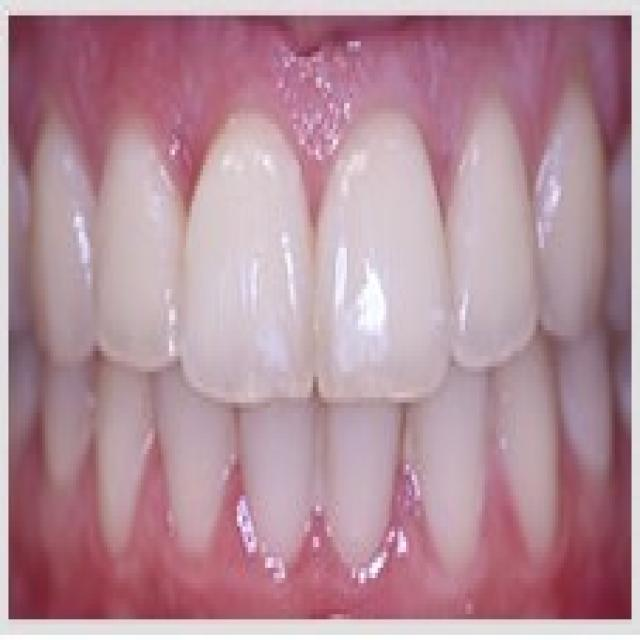tooth: (189, 103, 304, 413), (307, 134, 443, 377), (448, 88, 536, 351), (17, 104, 104, 362), (321, 408, 420, 609), (138, 356, 228, 573), (491, 377, 578, 583), (104, 144, 184, 362), (536, 77, 609, 315), (240, 403, 318, 578), (417, 392, 491, 547), (90, 356, 144, 532), (28, 362, 88, 491)
